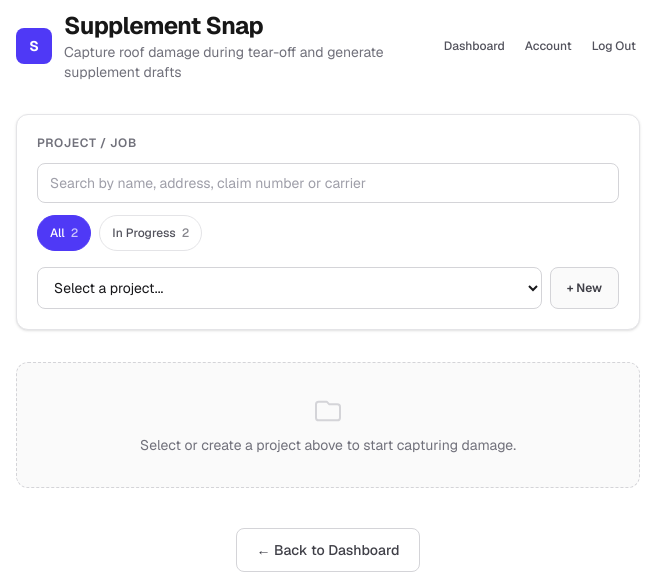
dashboard smoke test (stand-in database) › puts the old status back and says so when the save fails
Select "Garcia Roof (In Progress)" in the dropdown labelled "Project / Job" at (289, 288), box [37,267,542,309]
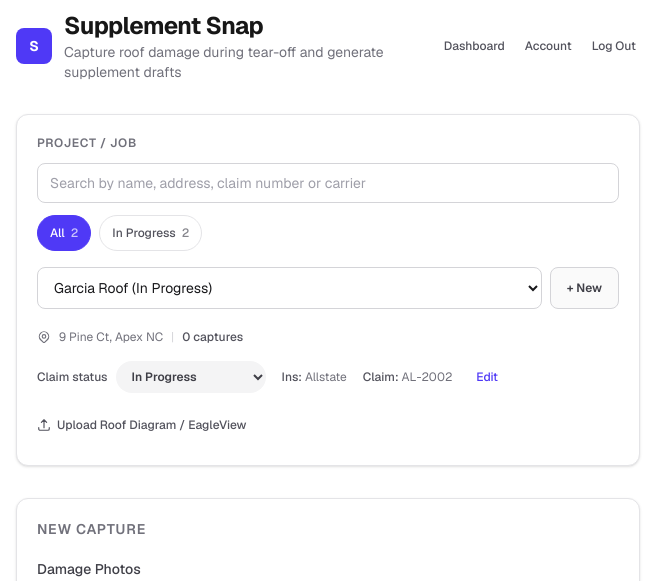
Select "Denied" in the dropdown labelled "Claim status" at (190, 377), box [116,361,266,393]
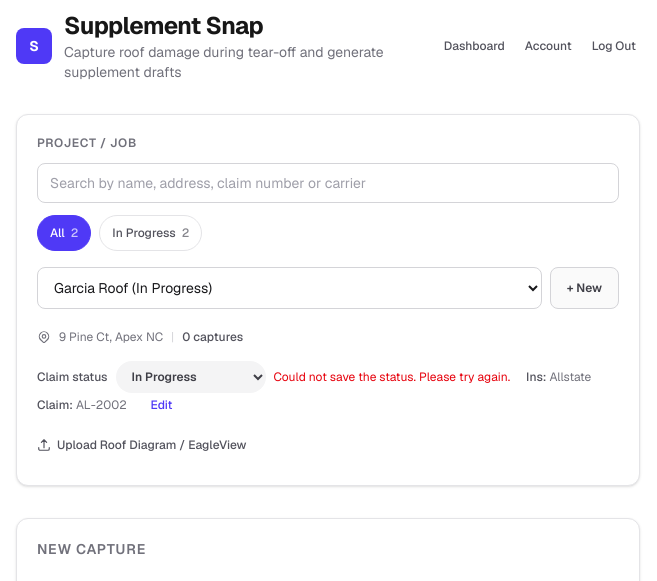
Expected: the text "Could not save the status. Please try again." is shown, [274,369,510,385]
